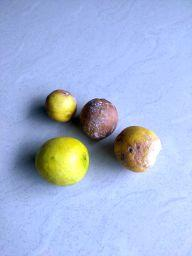lemon: (34, 135, 90, 187), (112, 125, 163, 173), (79, 97, 119, 141), (44, 88, 78, 123)
